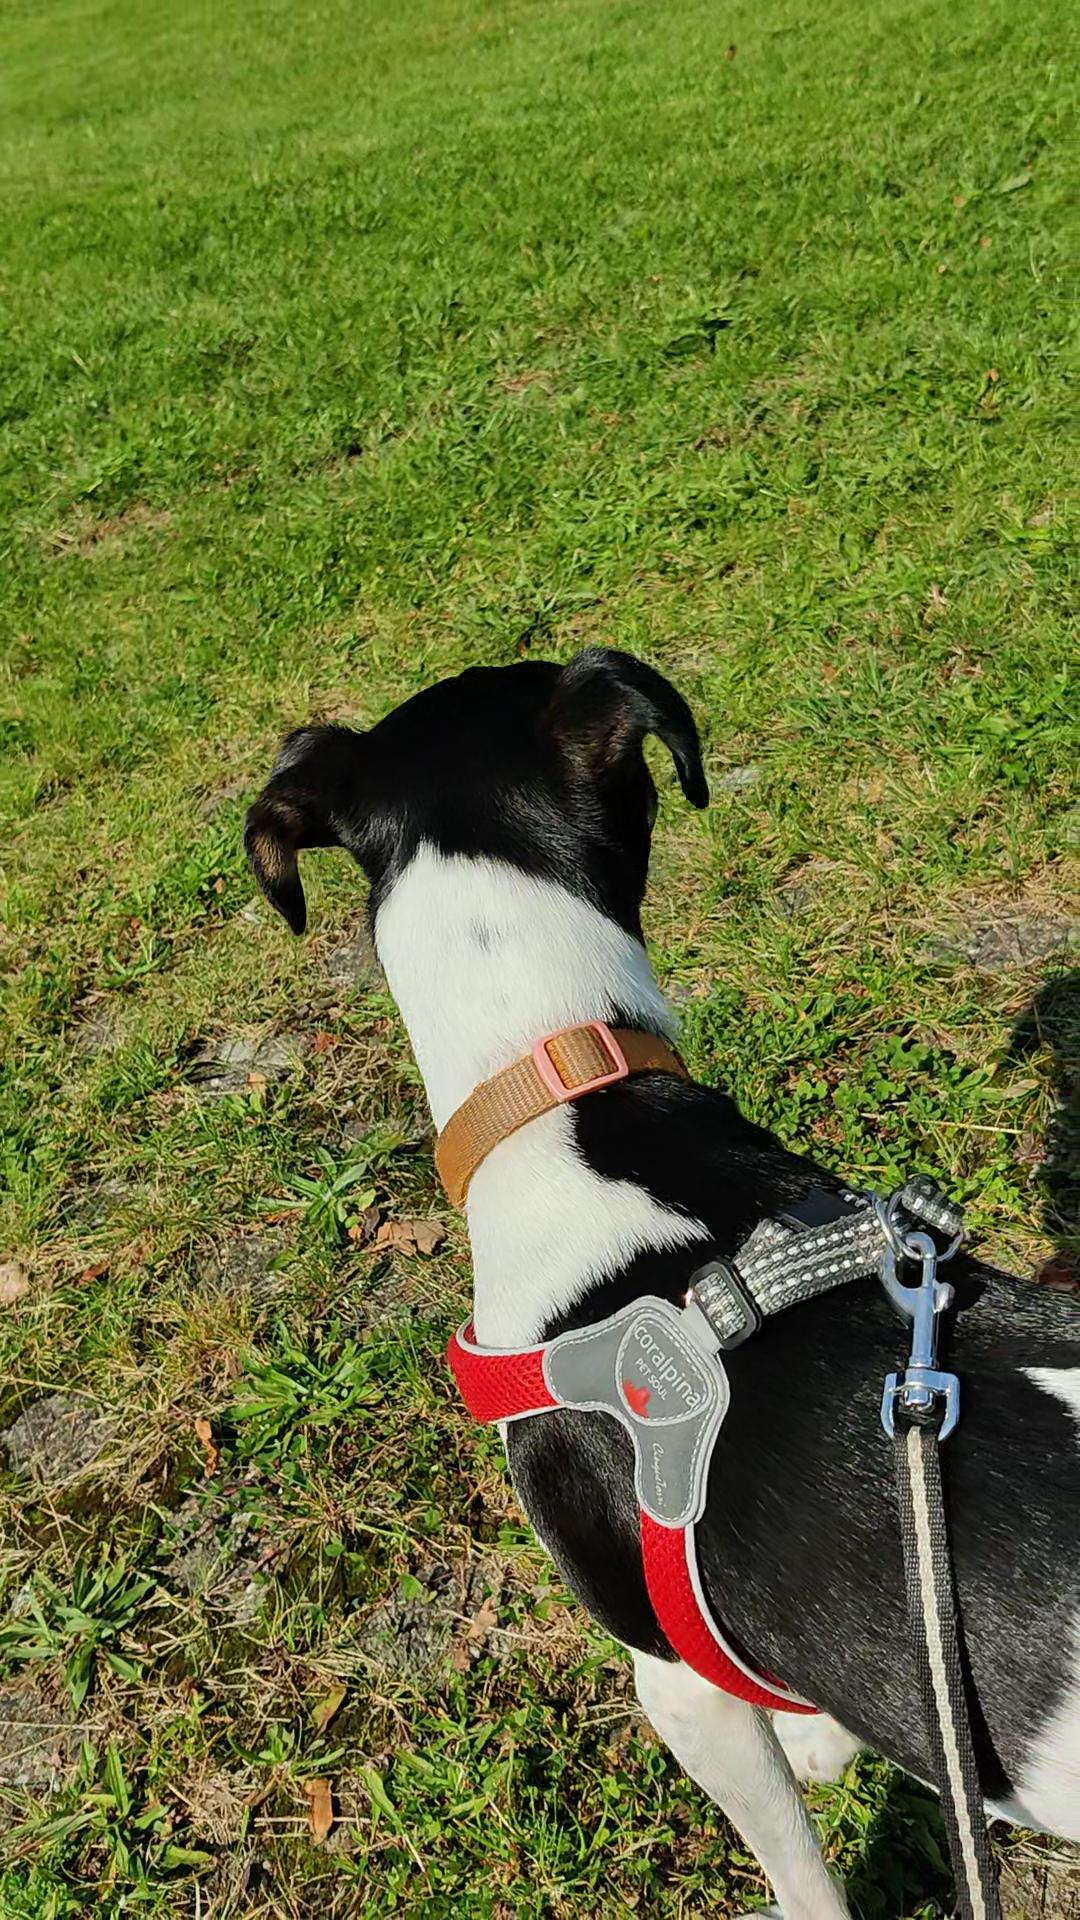Dog: (241, 640, 1079, 1919)
